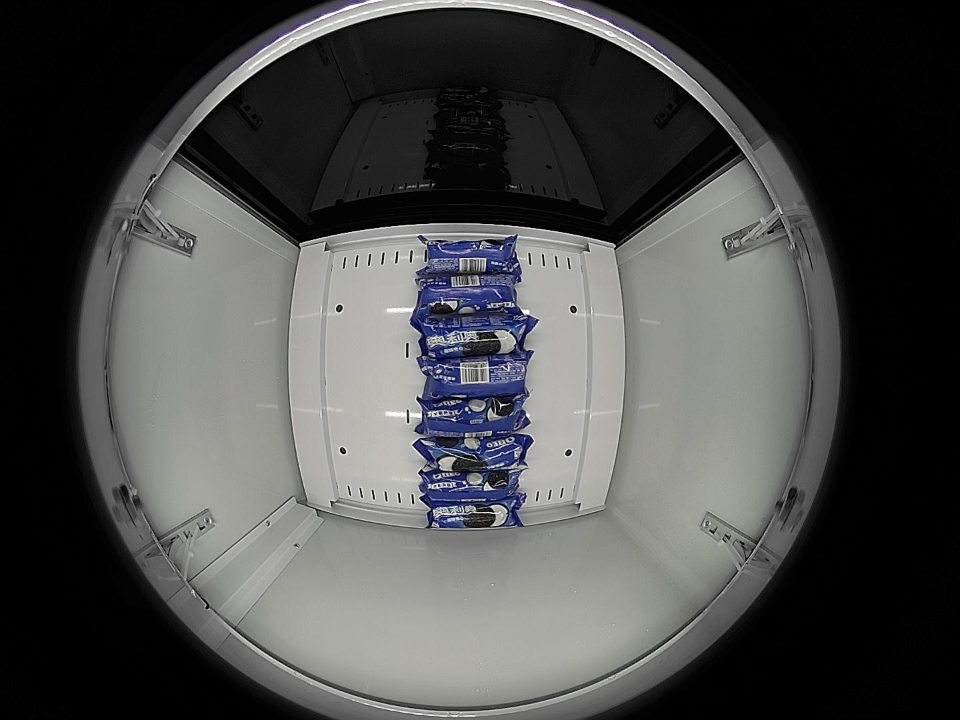aoliao: (417, 355, 532, 396), (419, 314, 529, 354), (419, 434, 530, 471), (416, 275, 517, 315), (419, 397, 527, 433), (415, 236, 520, 272), (423, 498, 526, 529), (416, 471, 523, 499)
